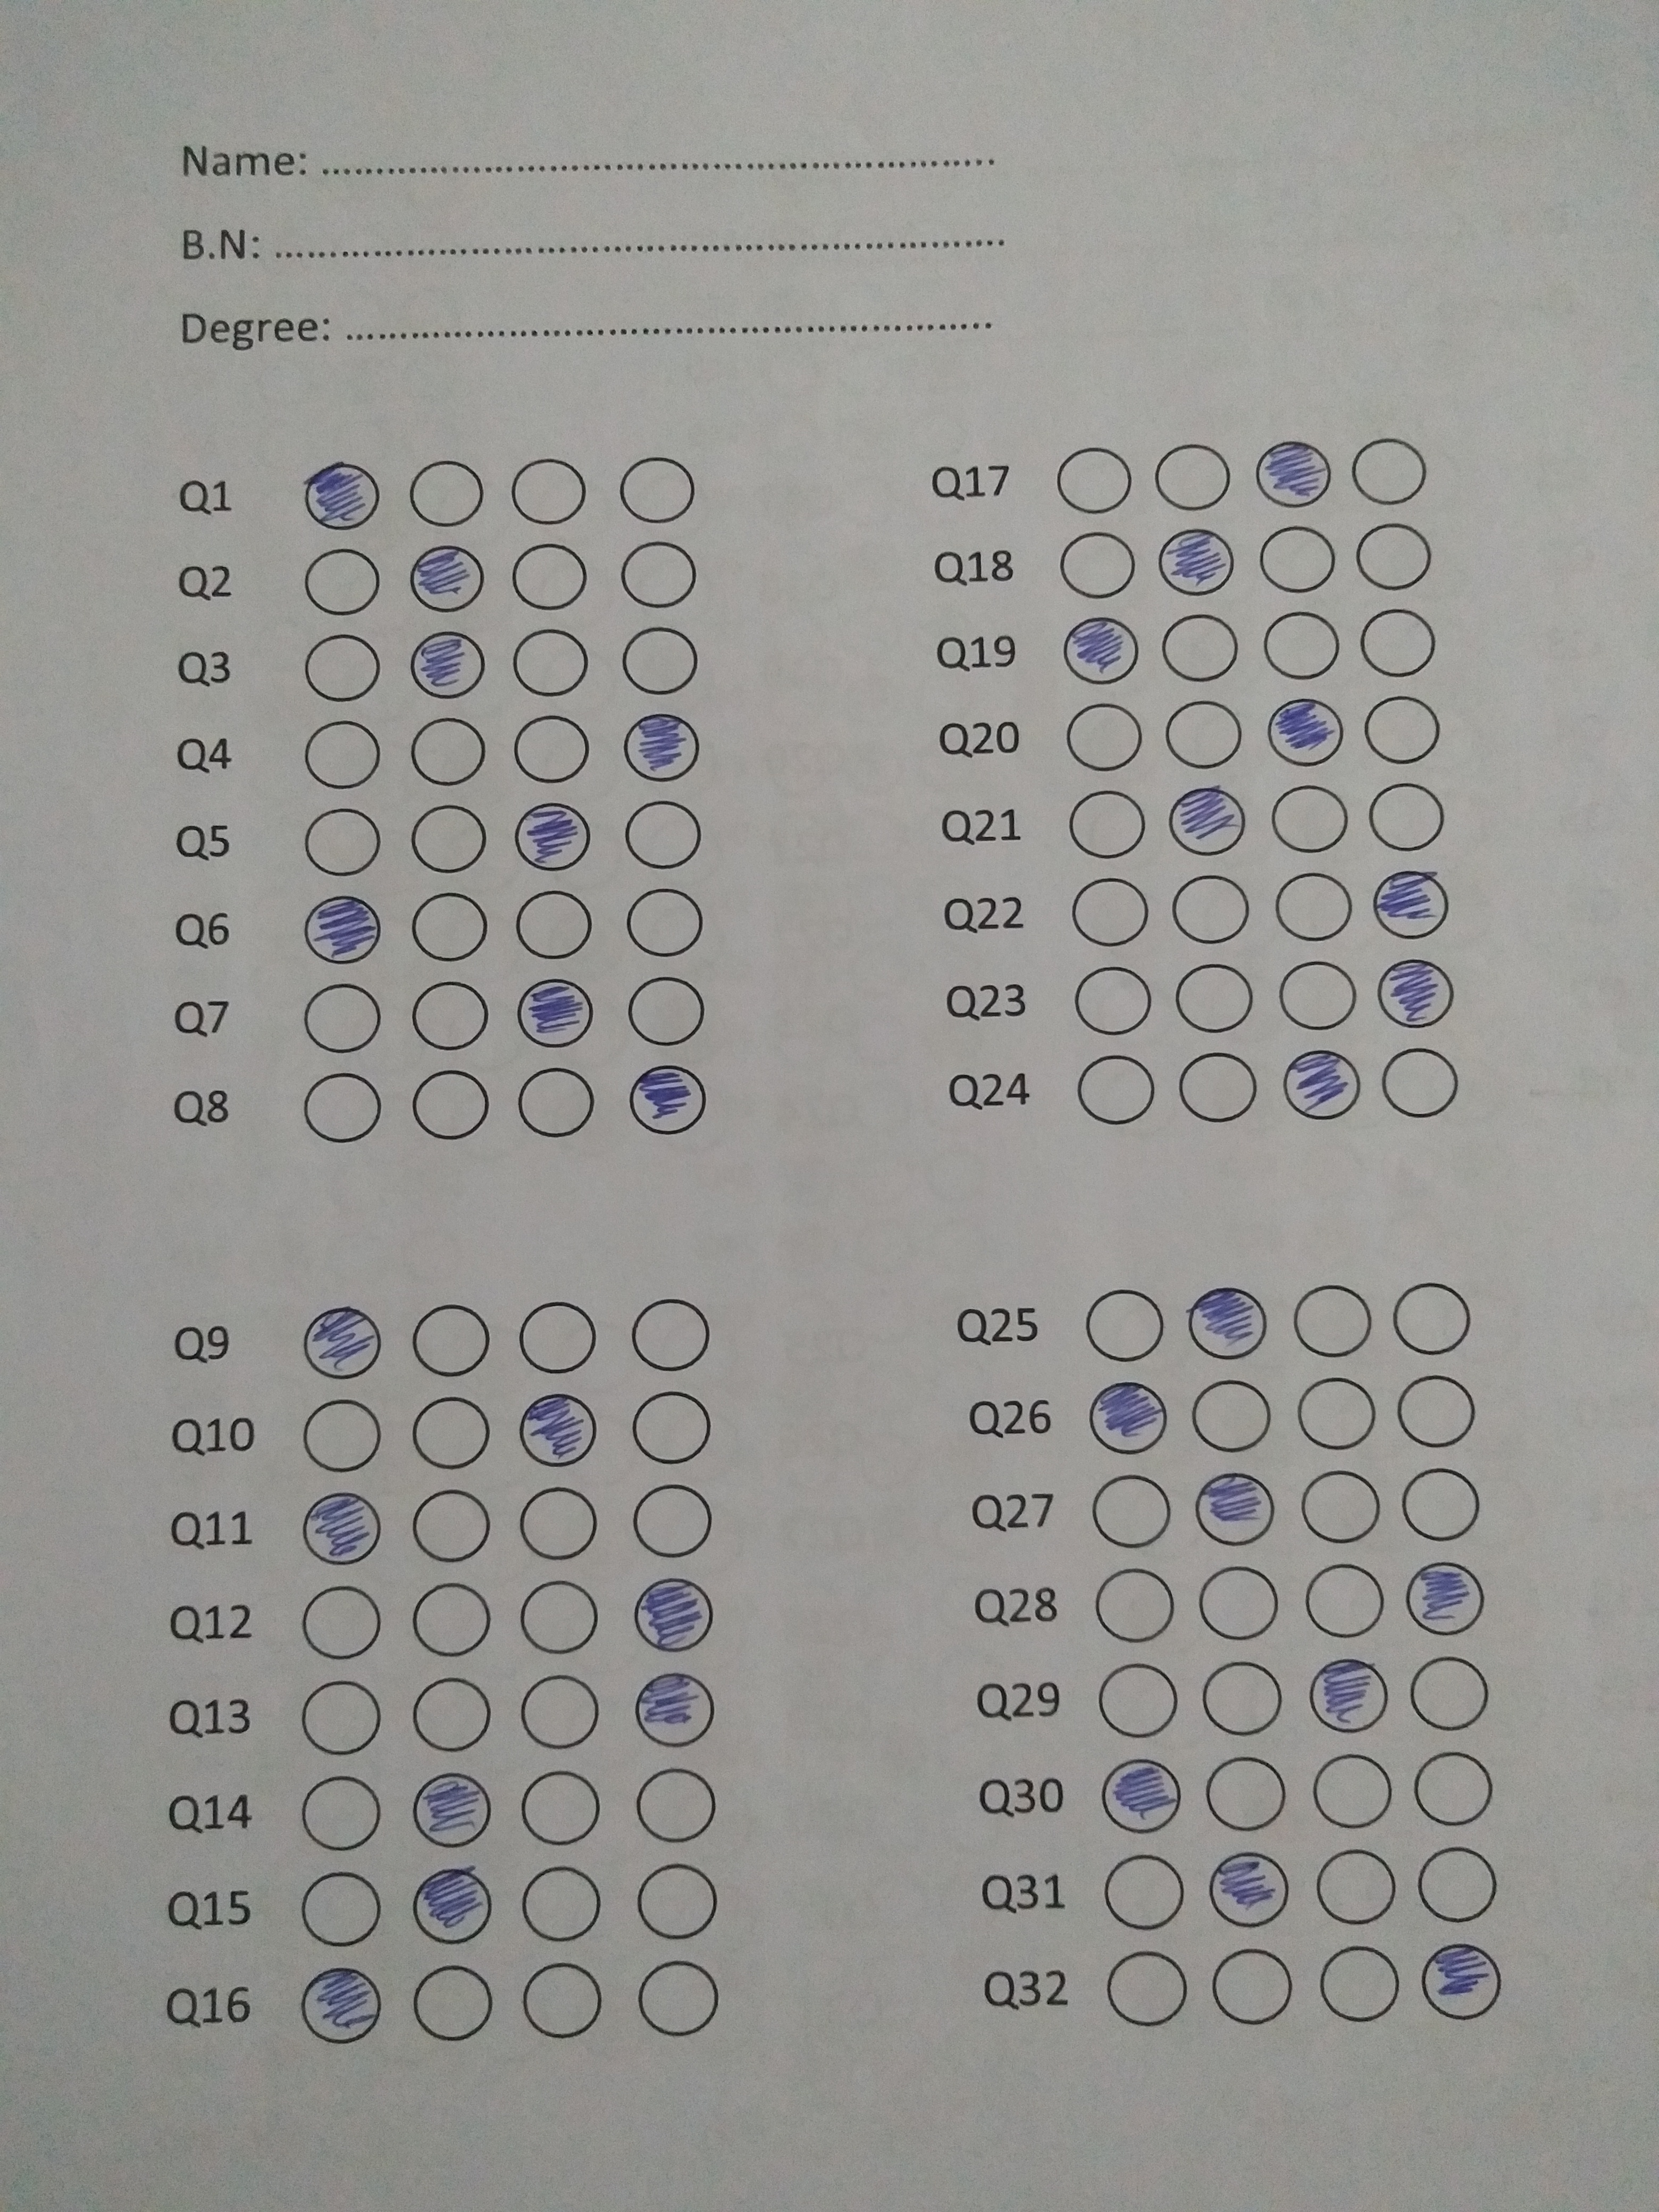not-c: (406, 456, 488, 533), (1171, 871, 1253, 948), (1162, 693, 1244, 770), (1159, 611, 1241, 688), (1150, 437, 1232, 514), (1075, 1050, 1157, 1127), (1072, 960, 1154, 1036), (1068, 873, 1150, 949), (1065, 786, 1147, 862), (1063, 697, 1145, 773), (1053, 437, 1134, 514), (626, 974, 708, 1050), (626, 885, 708, 961), (624, 794, 706, 871), (619, 624, 701, 700), (509, 538, 591, 615), (507, 620, 589, 697), (511, 711, 592, 787), (516, 1064, 598, 1141), (512, 888, 594, 965), (410, 977, 491, 1054), (408, 888, 490, 965), (406, 712, 488, 789), (300, 1069, 382, 1146), (300, 806, 382, 883), (298, 627, 380, 704), (303, 543, 385, 620), (615, 451, 697, 528), (1358, 601, 1439, 678), (1366, 780, 1448, 857), (1380, 1042, 1462, 1118), (1272, 871, 1354, 948), (1270, 782, 1352, 859), (1262, 604, 1344, 681), (1255, 523, 1337, 599), (1173, 960, 1255, 1036), (1105, 1947, 1187, 2024), (1103, 1853, 1185, 1930), (1098, 1662, 1180, 1738), (1093, 1568, 1175, 1644), (1091, 1472, 1173, 1548), (1084, 1287, 1166, 1364), (631, 1482, 713, 1559), (638, 1959, 720, 2036), (634, 1766, 716, 1843), (519, 1961, 601, 2038), (521, 1865, 603, 1942), (518, 1484, 599, 1561), (411, 1581, 493, 1658), (410, 1677, 491, 1754), (411, 1963, 493, 2040), (301, 1871, 383, 1947), (298, 1775, 380, 1851), (301, 1585, 383, 1662), (411, 1489, 493, 1566), (300, 1399, 382, 1475), (1417, 1846, 1499, 1923), (1412, 1749, 1493, 1825), (1392, 1374, 1474, 1451), (1316, 1848, 1398, 1925), (1312, 1754, 1394, 1831), (1303, 1561, 1385, 1637), (1295, 1374, 1377, 1451), (1290, 1285, 1371, 1362), (1211, 1949, 1293, 2026), (1201, 1660, 1283, 1737), (1058, 528, 1138, 604), (617, 533, 697, 610), (411, 1066, 491, 1143), (406, 803, 486, 880), (300, 982, 380, 1059), (507, 455, 587, 531), (411, 1305, 491, 1381), (1349, 435, 1429, 512), (1354, 521, 1434, 597), (1361, 691, 1441, 768), (1178, 1047, 1258, 1123), (1192, 1379, 1272, 1456), (636, 1864, 716, 1940), (519, 1768, 599, 1844), (519, 1674, 599, 1750), (518, 1578, 598, 1655), (300, 1677, 380, 1754), (631, 1390, 711, 1467), (410, 1395, 490, 1472), (518, 1299, 598, 1376), (1408, 1653, 1488, 1730), (1399, 1467, 1480, 1543), (1394, 1282, 1474, 1359), (1321, 1944, 1401, 2020), (1206, 1756, 1286, 1832), (1199, 1562, 1279, 1639), (1277, 958, 1359, 1033), (1302, 1470, 1384, 1545), (303, 718, 383, 792), (631, 1299, 711, 1374)
taken-c: (411, 1864, 493, 1949), (631, 1667, 718, 1747), (1403, 1559, 1490, 1639), (634, 1573, 716, 1656), (300, 1963, 382, 2047), (1420, 1940, 1504, 2022), (1086, 1376, 1171, 1456), (1098, 1757, 1183, 1836), (1208, 1850, 1293, 1928), (514, 975, 601, 1052), (296, 1489, 383, 1566), (411, 1771, 497, 1848), (1195, 1470, 1277, 1548), (1310, 1656, 1392, 1735), (516, 1390, 599, 1467), (300, 1305, 383, 1379), (1188, 1285, 1270, 1360), (1377, 956, 1455, 1033), (406, 629, 486, 704), (301, 892, 383, 965), (629, 1061, 711, 1134), (1166, 784, 1248, 857), (1251, 437, 1333, 510), (514, 799, 592, 874), (1283, 1047, 1361, 1122), (300, 460, 380, 533), (1267, 697, 1347, 770), (1061, 613, 1140, 686), (406, 542, 486, 613), (622, 712, 702, 784), (1373, 867, 1448, 939), (1159, 528, 1236, 597)
